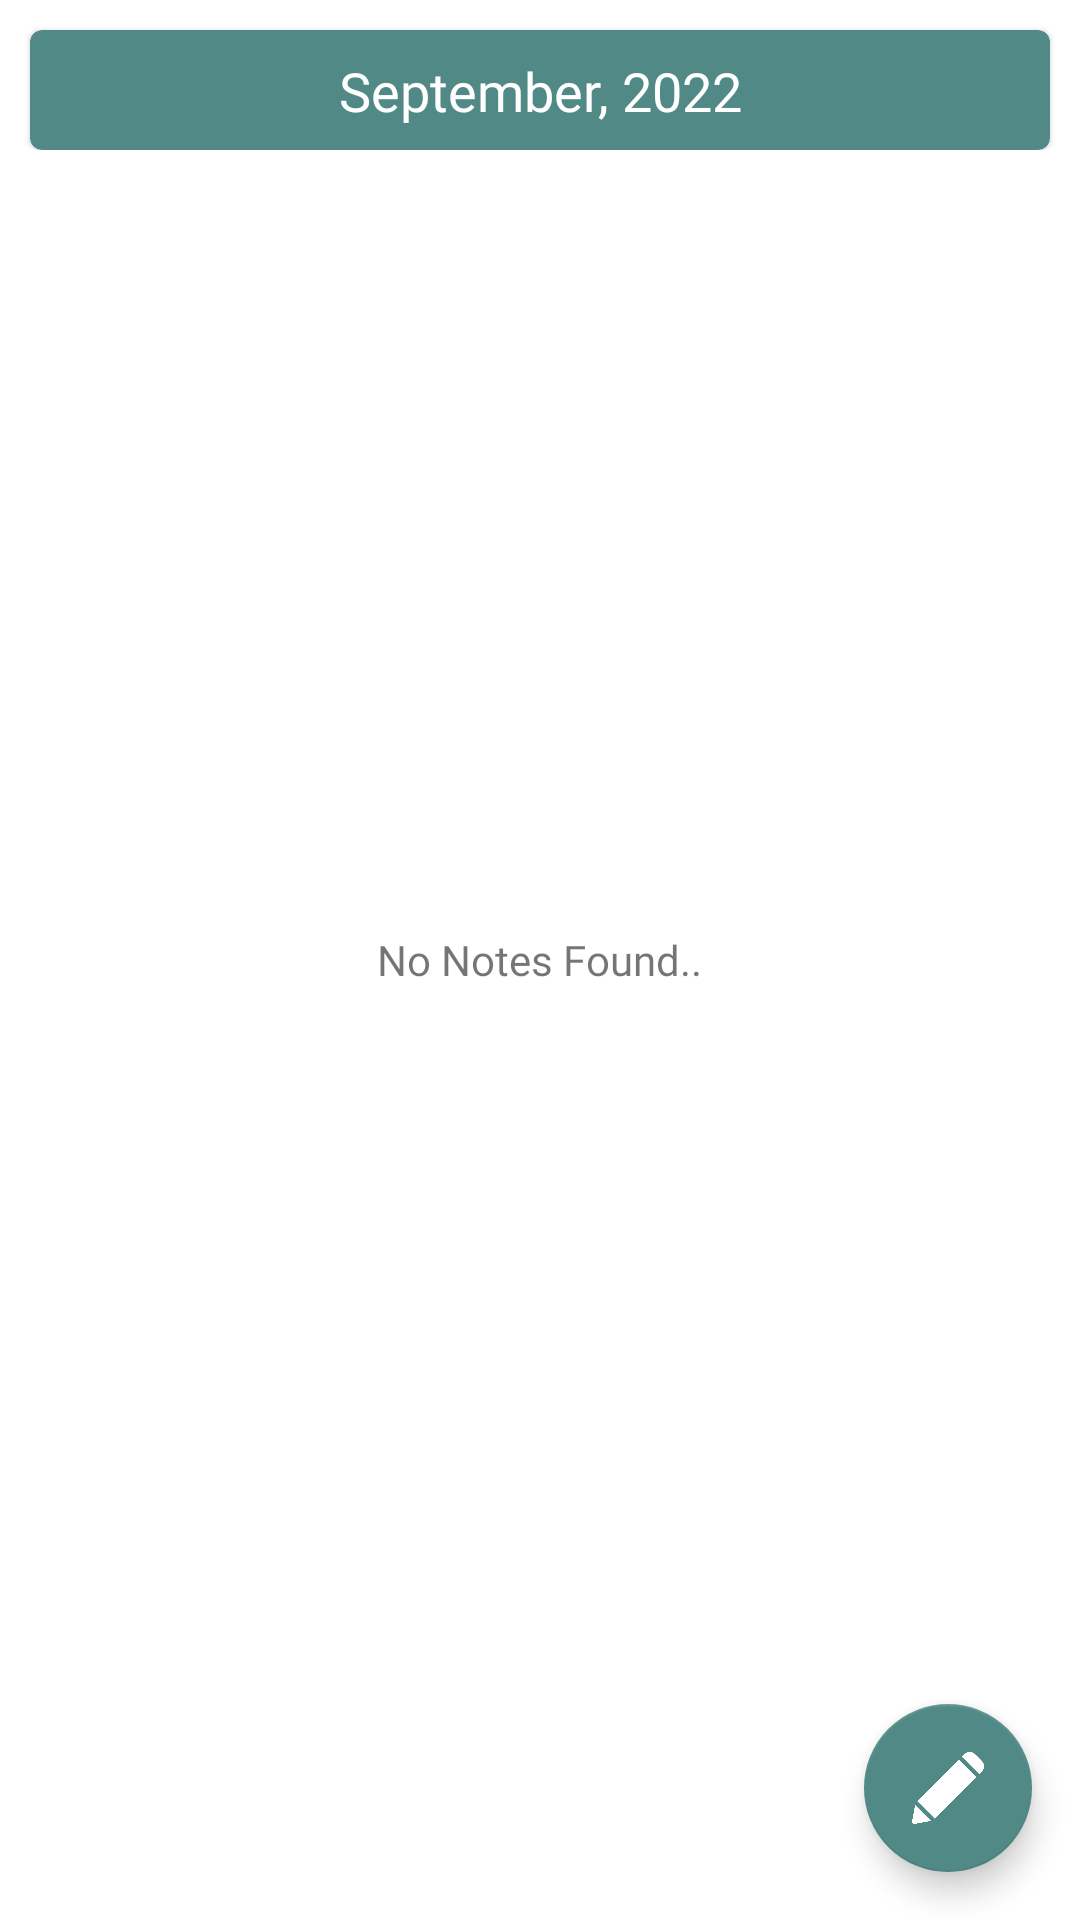

Icons on this 1080x1920 Android screen, each with its box as (x1, y1, x2, y2):
pencil: (864, 1704, 1032, 1872)
